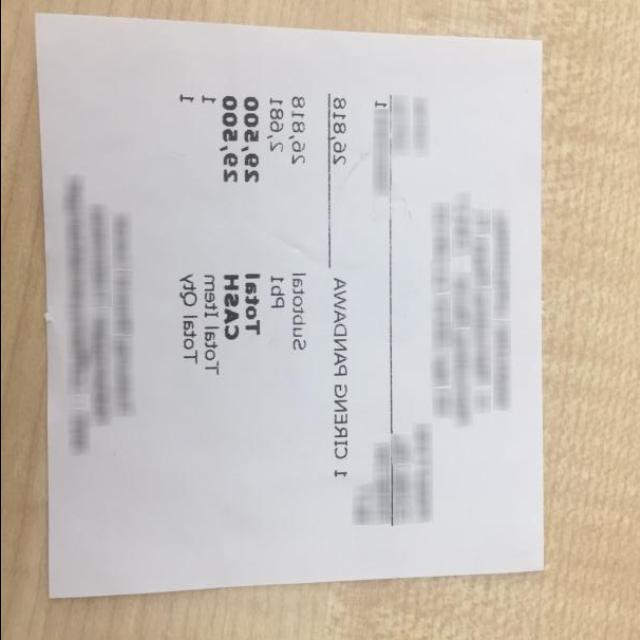kertas: (35, 11, 543, 597)
